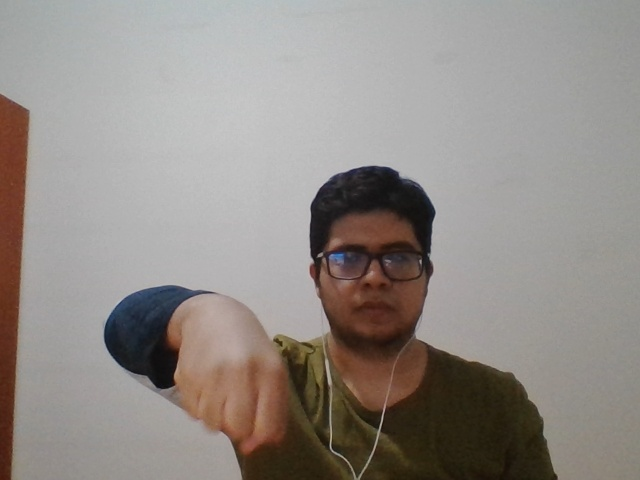Yes: (166, 286, 299, 461)
